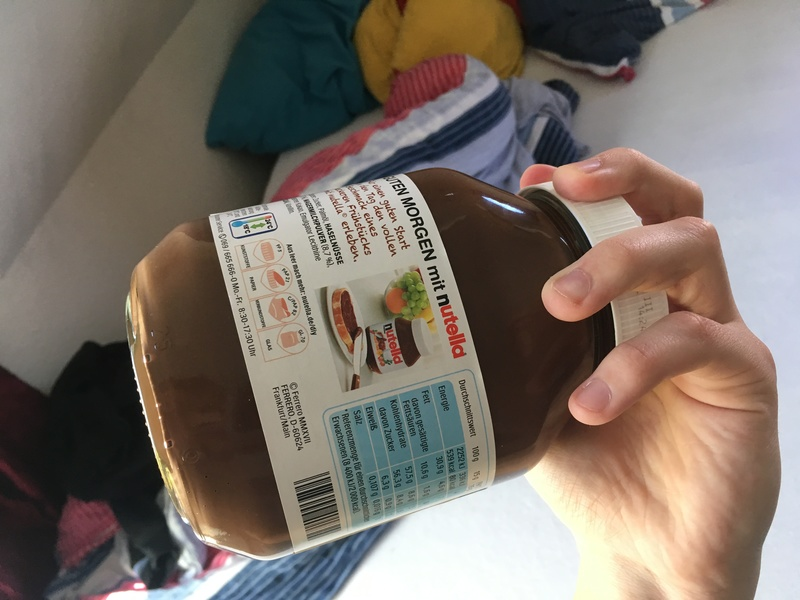nutella: (124, 167, 668, 560)
